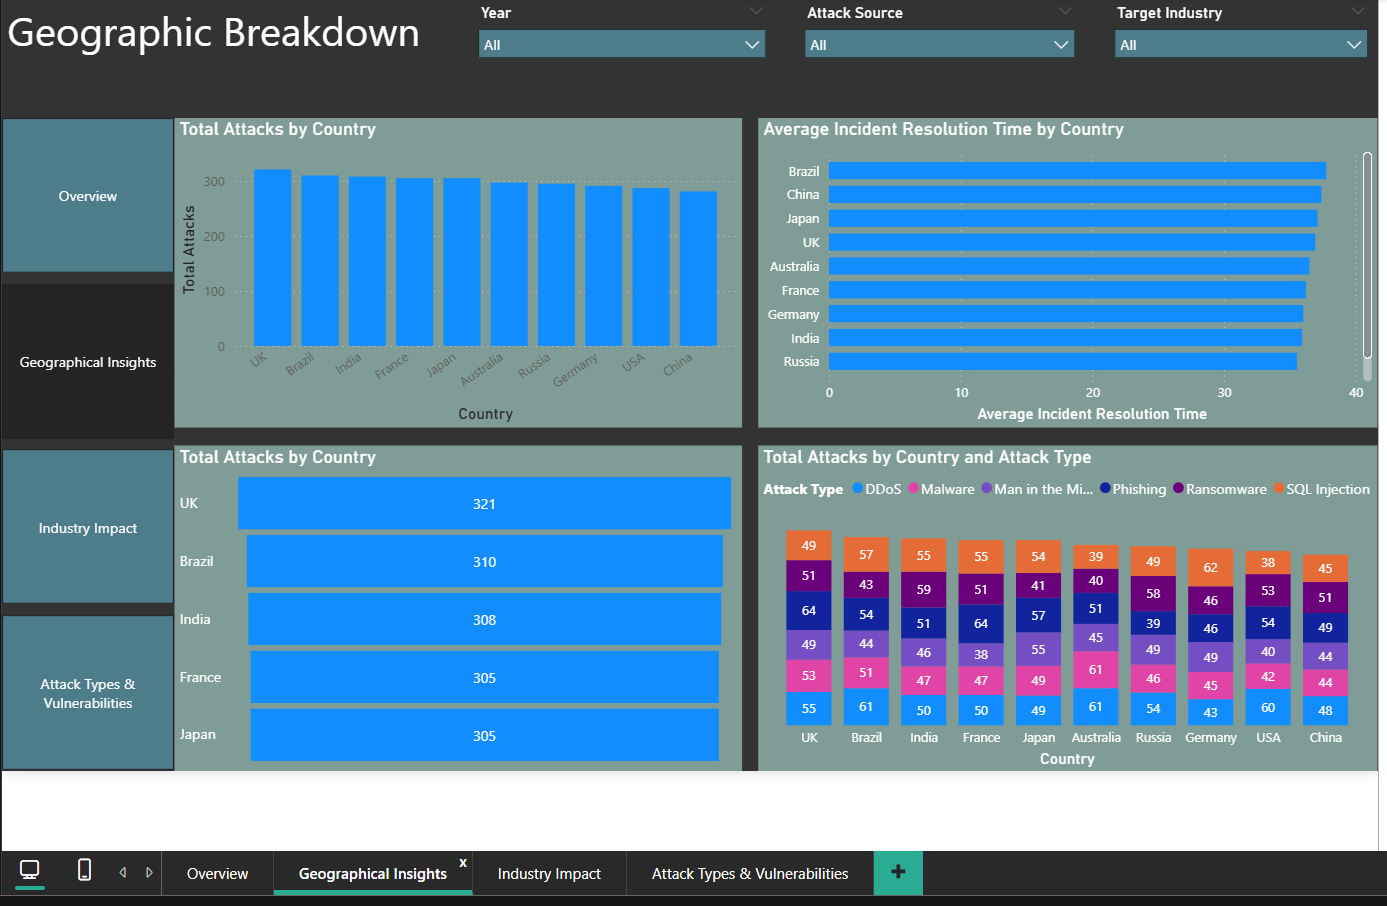

Layout of this report page (visuals, bound fields, positions):
{"tool":"powerbi","page":{"name":" Geographical Insights","canvas":[1280,720],"ordinal":1},"visuals":[{"type":"clusteredColumnChart","fields":{"Category":["Cyber Security.Country"],"Y":["Cyber Security.Total Attacks"]},"box":[160,112,528,288],"z":0},{"type":"funnel","fields":{"Category":["Cyber Security.Country"],"Y":["Cyber Security.Total Attacks"]},"box":[160,416,528,304],"z":1000},{"type":"clusteredBarChart","fields":{"Category":["Cyber Security.Country"],"Y":["Cyber Security.Average Incident Resolution Time"]},"box":[704,112,576,288],"z":2000},{"type":"columnChart","fields":{"Category":["Cyber Security.Country"],"Series":["Cyber Security.Attack Type"],"Y":["Cyber Security.Total Attacks"]},"box":[704,416,576,304],"z":3000},{"type":"pageNavigator","box":[0,112,160,608],"z":4000},{"type":"slicer","fields":{"Values":["Cyber Security.Year"]},"box":[432,0,288,96],"z":5000},{"type":"slicer","fields":{"Values":["Cyber Security.Attack Source"]},"box":[736,0,272,96],"z":6000},{"type":"slicer","fields":{"Values":["Cyber Security.Target Industry"]},"box":[1024,0,256,96],"z":7000},{"type":"textbox","box":[0,0,400,96],"z":8000}]}

Visuals, with their boxes on the page's 1280x720 design canvas (x1, y1, x2, y2). These are canvas units, not pixel positions in the 1387x906 screenshot, which may show the page scaled, cropped or inside an application window:
clusteredColumnChart - Cyber Security.Country x Cyber Security.Total Attacks: bbox(160, 112, 688, 400)
funnel - Cyber Security.Country x Cyber Security.Total Attacks: bbox(160, 416, 688, 720)
clusteredBarChart - Cyber Security.Country x Cyber Security.Average Incident Resolution Time: bbox(704, 112, 1280, 400)
columnChart - Cyber Security.Country x Cyber Security.Attack Type: bbox(704, 416, 1280, 720)
pageNavigator: bbox(0, 112, 160, 720)
slicer - Cyber Security.Year: bbox(432, 0, 720, 96)
slicer - Cyber Security.Attack Source: bbox(736, 0, 1008, 96)
slicer - Cyber Security.Target Industry: bbox(1024, 0, 1280, 96)
textbox: bbox(0, 0, 400, 96)
